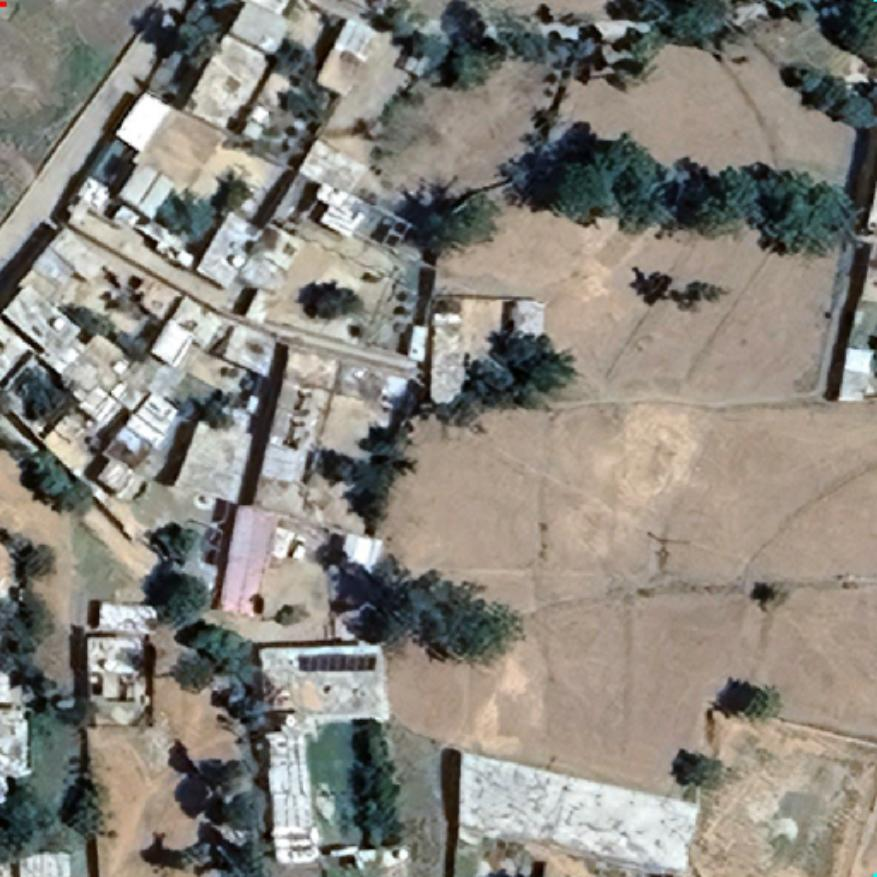Solarpanel: (290, 650, 382, 676)
